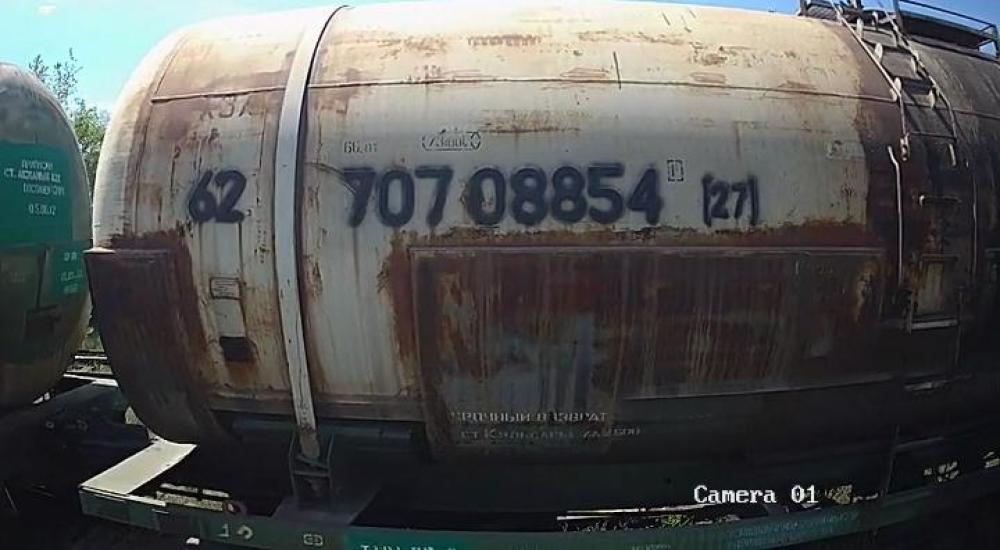Wagon-number: (336, 162, 670, 227)
